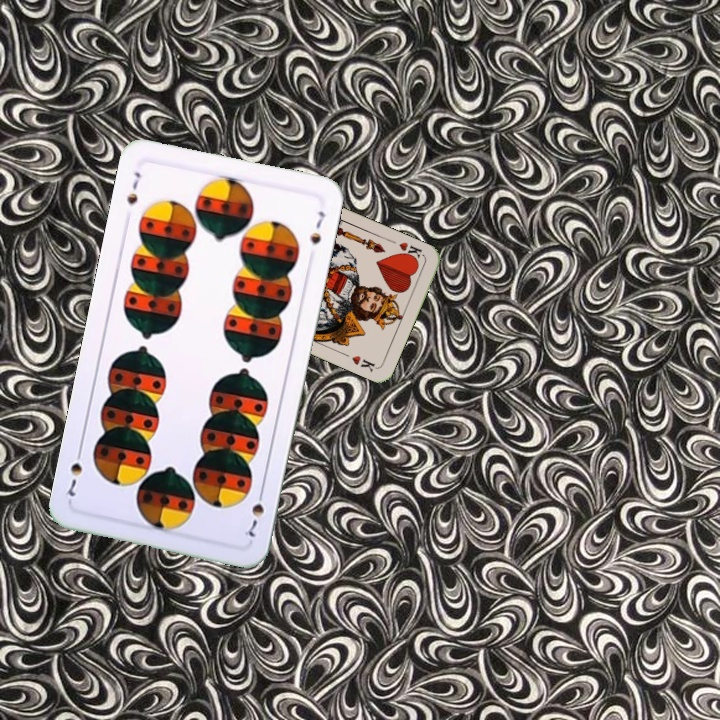HK: (395, 238, 424, 264)
S7: (240, 484, 267, 540), (123, 168, 144, 207)
